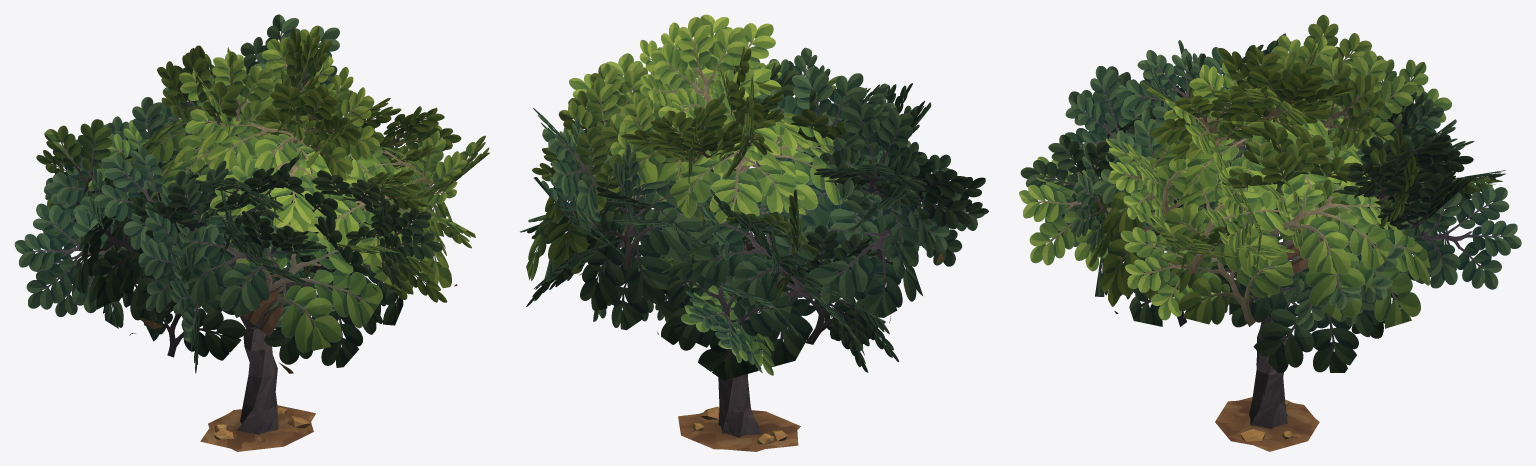
The model's file is teste_telhas.glb.
The picture shows the model from 3 angles, left to right: view 1: azimuth 30°, elevation 25°; view 2: azimuth 150°, elevation 25°; view 3: azimuth 270°, elevation 25°; orthographic projection. The views are drawn at different scales.
Parts seen in each view (by area): view 1: Atual_Alfarrobeira, Telhas_Alfarrobeira; view 2: Atual_Alfarrobeira, Telhas_Alfarrobeira; view 3: Atual_Alfarrobeira, Telhas_Alfarrobeira.
Boxes of the visible parts, x1=… form: Atual_Alfarrobeira: x1=14, y1=14, x2=489, y2=451; Telhas_Alfarrobeira: x1=72, y1=113, x2=457, y2=448; Atual_Alfarrobeira: x1=520, y1=14, x2=988, y2=451; Telhas_Alfarrobeira: x1=526, y1=108, x2=943, y2=449; Atual_Alfarrobeira: x1=1019, y1=14, x2=1521, y2=445; Telhas_Alfarrobeira: x1=1052, y1=103, x2=1473, y2=451.
Size of the model in its own units: 6.07 by 5.8 by 6.5.
Materials: 2 (2 with a texture image).
